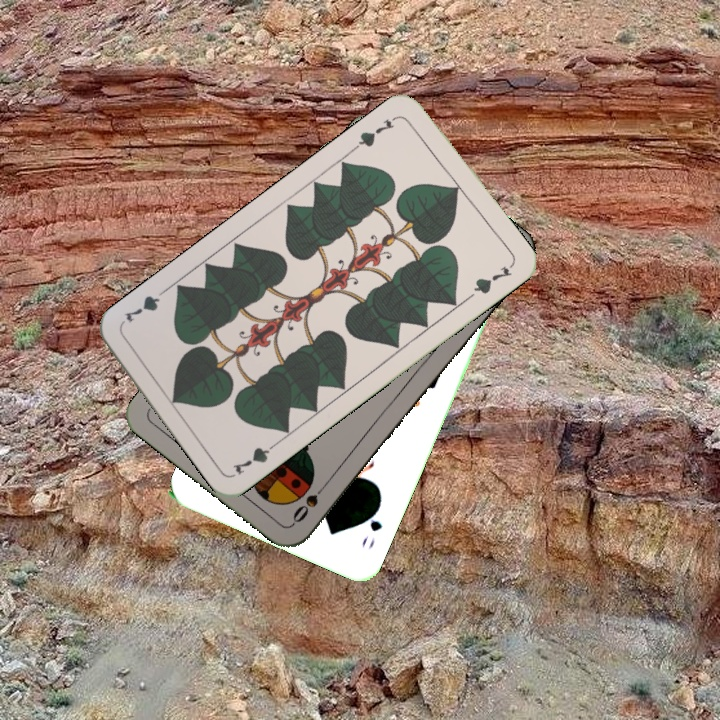G7: (228, 436, 282, 478), (350, 112, 401, 152)
GO: (357, 499, 385, 551)
SO: (288, 477, 332, 526)
